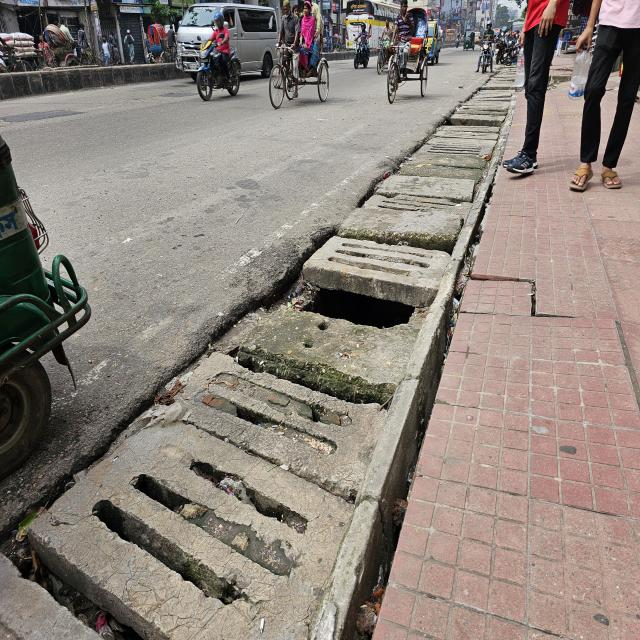drain_inlet: (297, 287, 415, 339)
